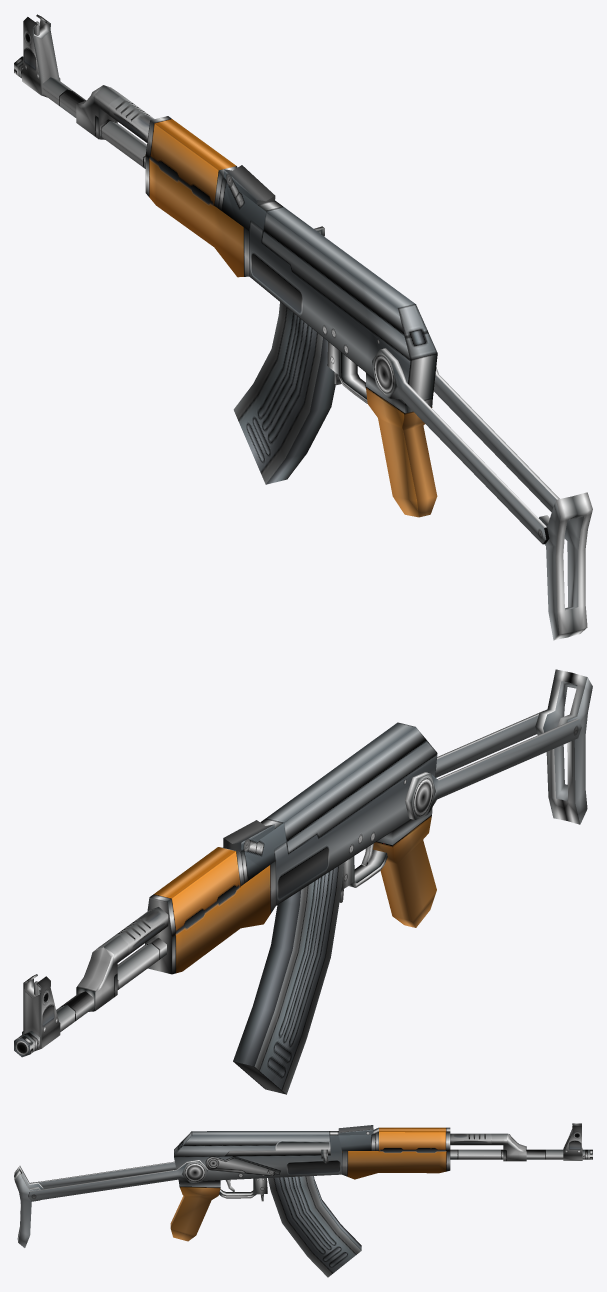
3 renders of one model, top to bottom at view 1: azimuth 30°, elevation 25°; view 2: azimuth 150°, elevation 25°; view 3: azimuth 270°, elevation 25°, orthographic. The views are drawn at different scales.
Parts seen in each view (by area): view 1: body; view 2: body; view 3: body.
Part boxes in pixels (box(x1,y1,x2,y2)): body: box(14, 14, 592, 640); body: box(14, 669, 592, 1094); body: box(14, 1123, 592, 1277).
Bounding box in the file's own units: 0.0608 × 0.2544 × 0.887.
1 material, 1 textured.
